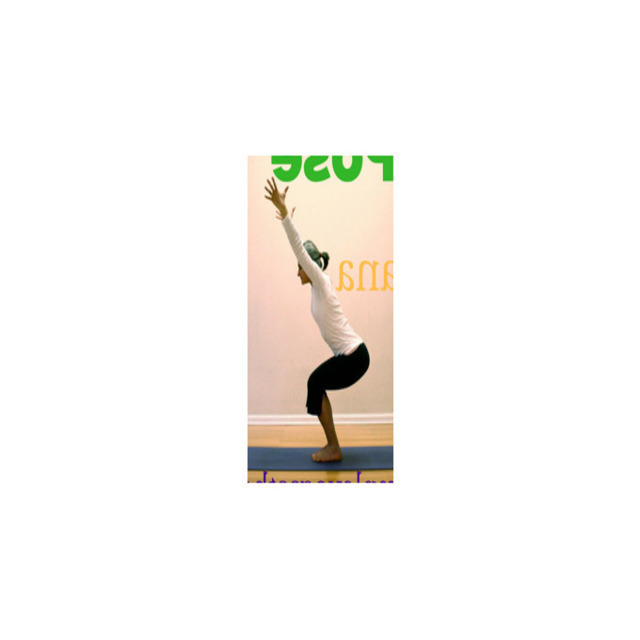Squat_Pose: (263, 178, 370, 462)
